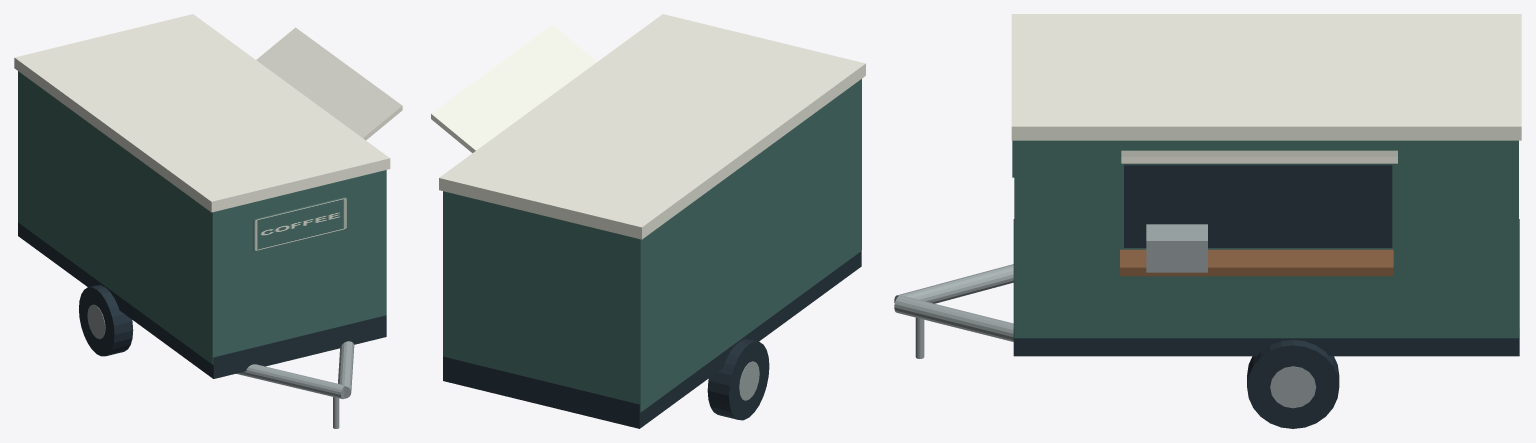
Rendered from scendance-plan-food-trailer-coffee.glb.
3 views of the same model, side by side, from view 1: azimuth 30°, elevation 25°; view 2: azimuth 150°, elevation 25°; view 3: azimuth 270°, elevation 25° (orthographic). The views are drawn at different scales.
Bounding box in the file's own units: 2.56 × 2.44 × 4.49.
6 materials, 1 textured.
